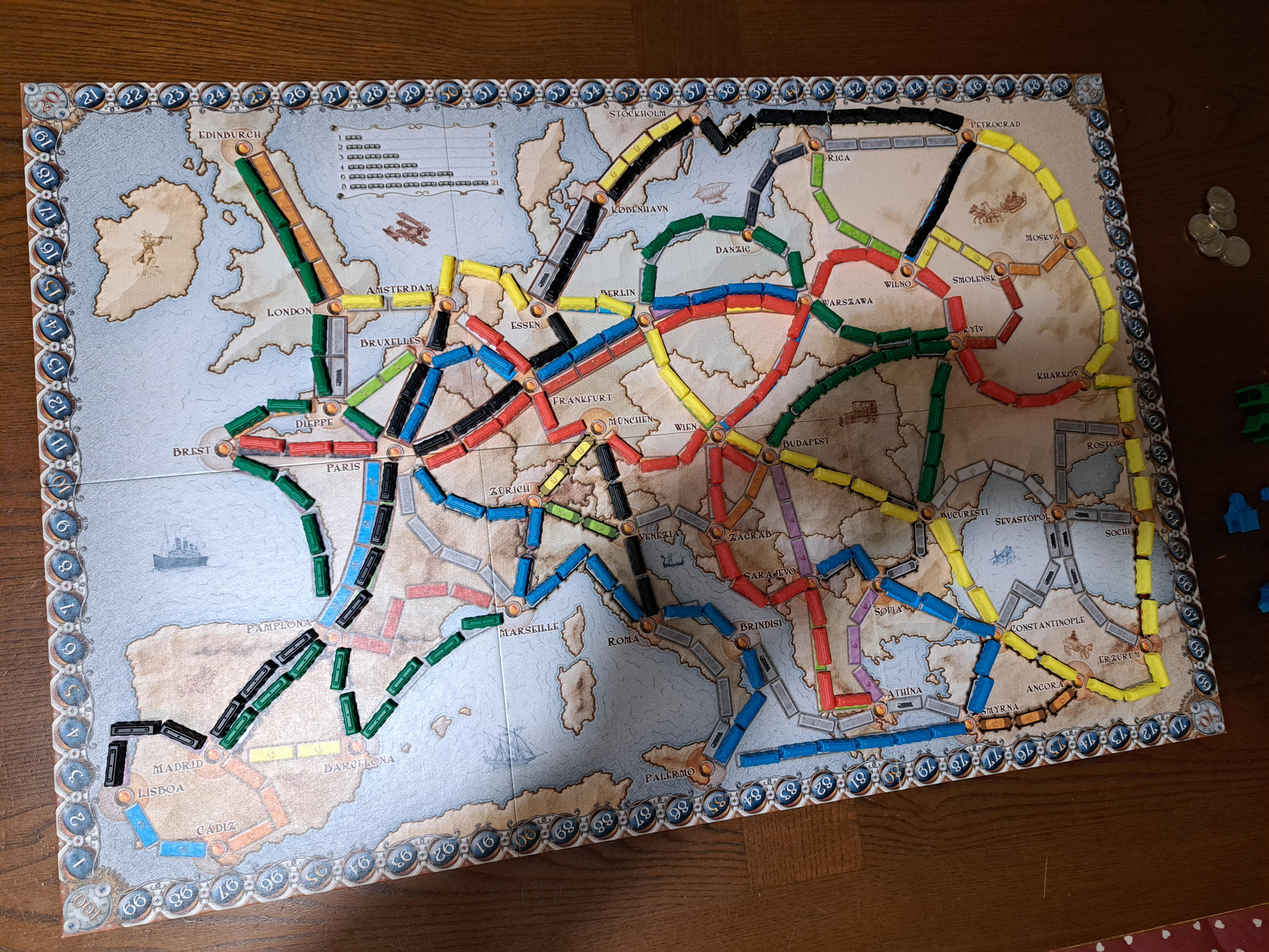corner_bl: (60, 879, 117, 937)
corner_br: (1189, 699, 1226, 737)
corner_tl: (21, 84, 72, 124)
corner_tr: (1072, 74, 1106, 106)
